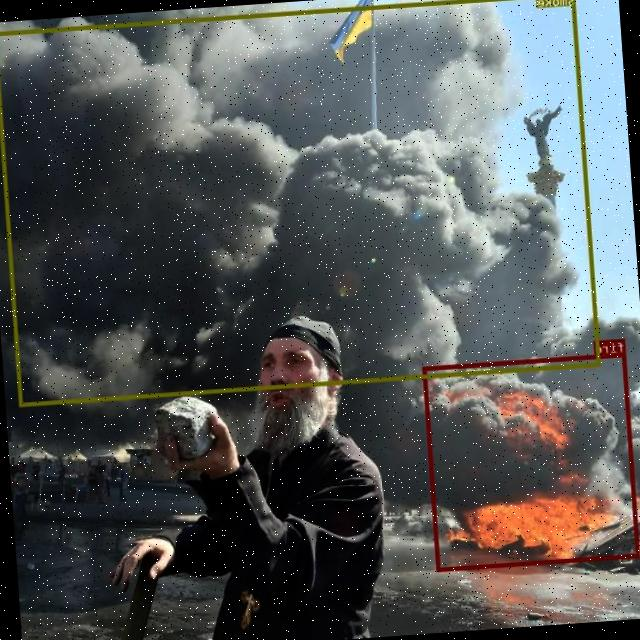fire: (423, 351, 640, 571)
smoke: (0, 0, 601, 406)
